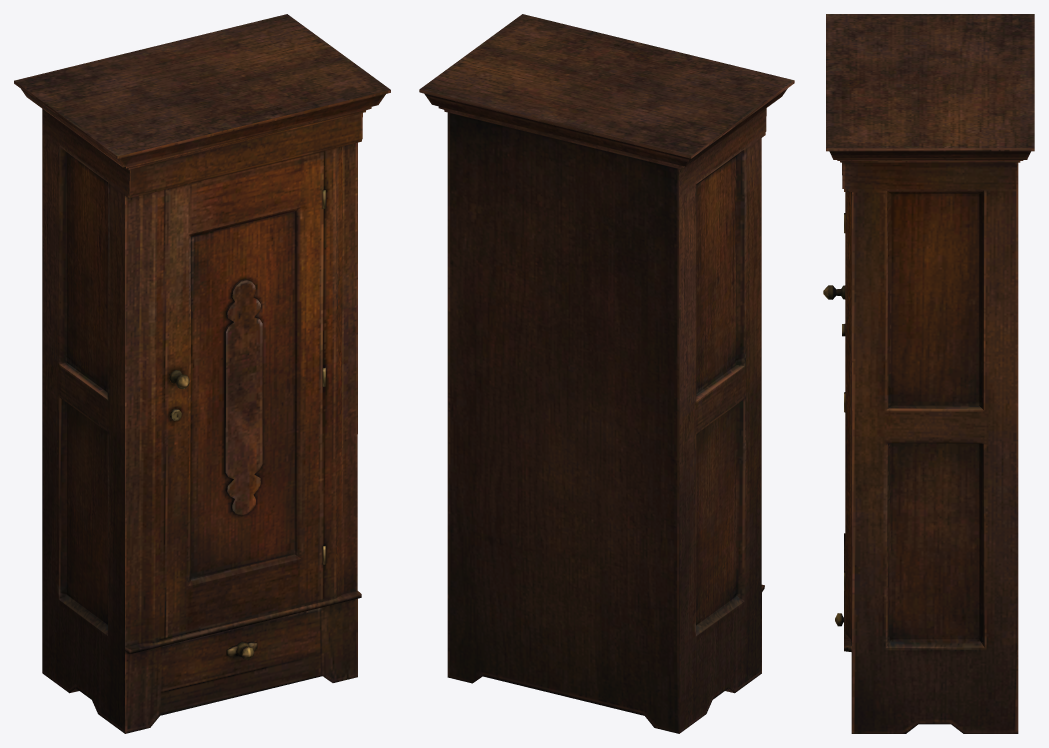
The model's file is Hotel Wardrobe.obj.
The picture shows the model from 3 angles, left to right: view 1: azimuth 30°, elevation 25°; view 2: azimuth 150°, elevation 25°; view 3: azimuth 270°, elevation 25°; orthographic projection.
Parts seen in each view (by area): view 1: Hotel_Wardrobe; view 2: Hotel_Wardrobe; view 3: Hotel_Wardrobe.
Boxes of the visible parts, left/top/right/bottom form: Hotel_Wardrobe: left=14, top=14, right=390, bottom=733; Hotel_Wardrobe: left=419, top=14, right=794, bottom=733; Hotel_Wardrobe: left=823, top=14, right=1034, bottom=733.
Size of the model in its own units: 56.66 by 117 by 37.66.
1 material, 1 textured.
